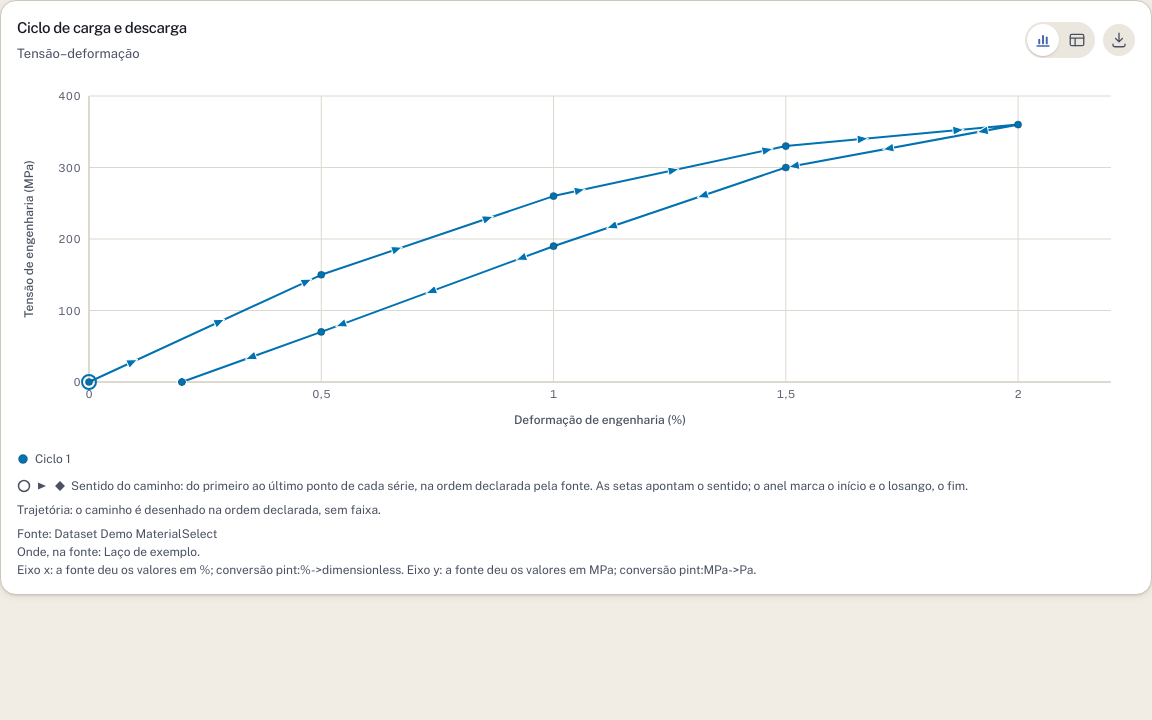
Scenario: CurveChart: the direction of a trajectory (TM4-i, D-118) › numbers the points in the table as the order of the path
What coordinates should you click on to do the following:
click the button named "Tabela"
I would click on:
 (1077, 40)
Its box is [1061,24,1093,56].
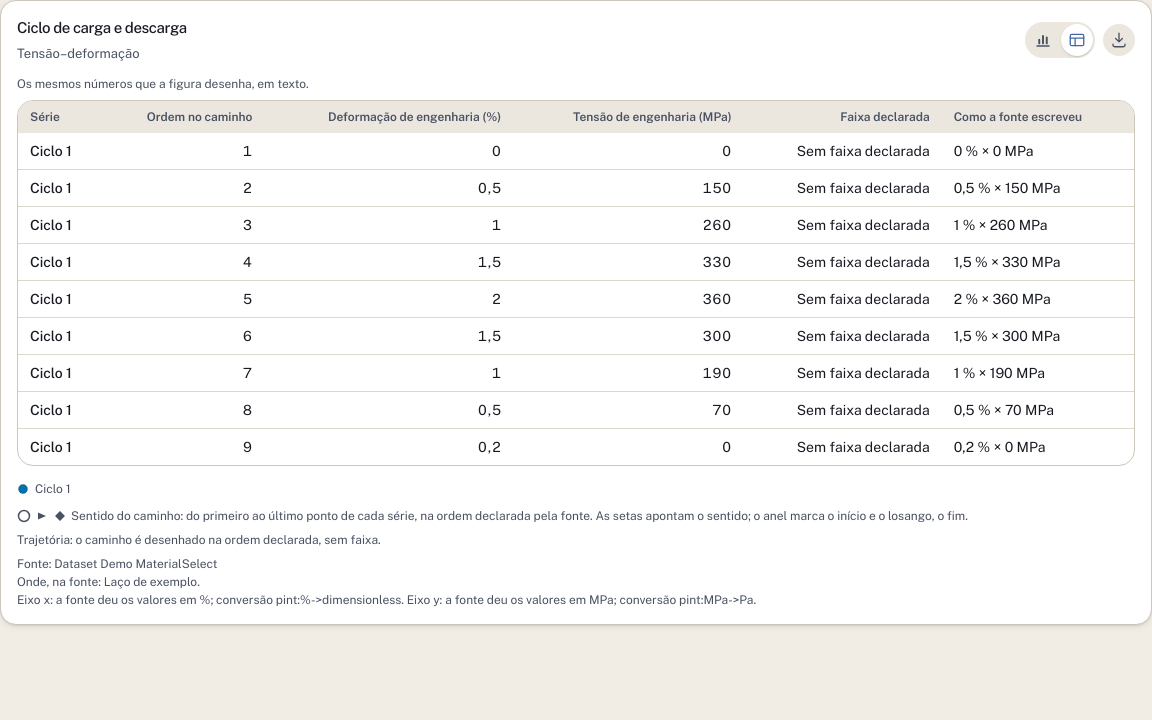
expect the column heading "Ordem no caminho" is shown: met, box [101,100,264,132]
expect the cell "1" in the row of "0 % × 0 MPa" is shown: met, box [242,142,252,158]
